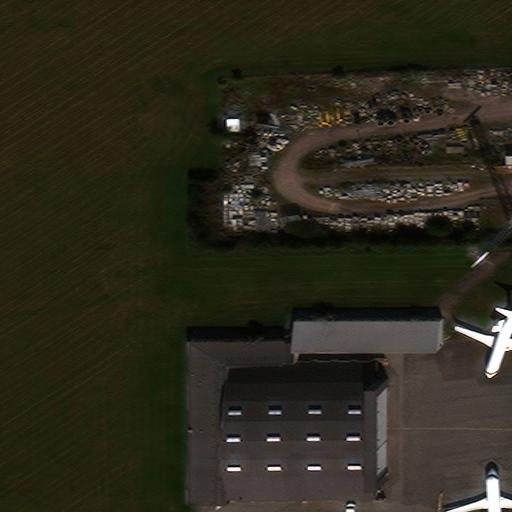Medium Civil Transport: (453, 309, 511, 378), (444, 467, 511, 511)
